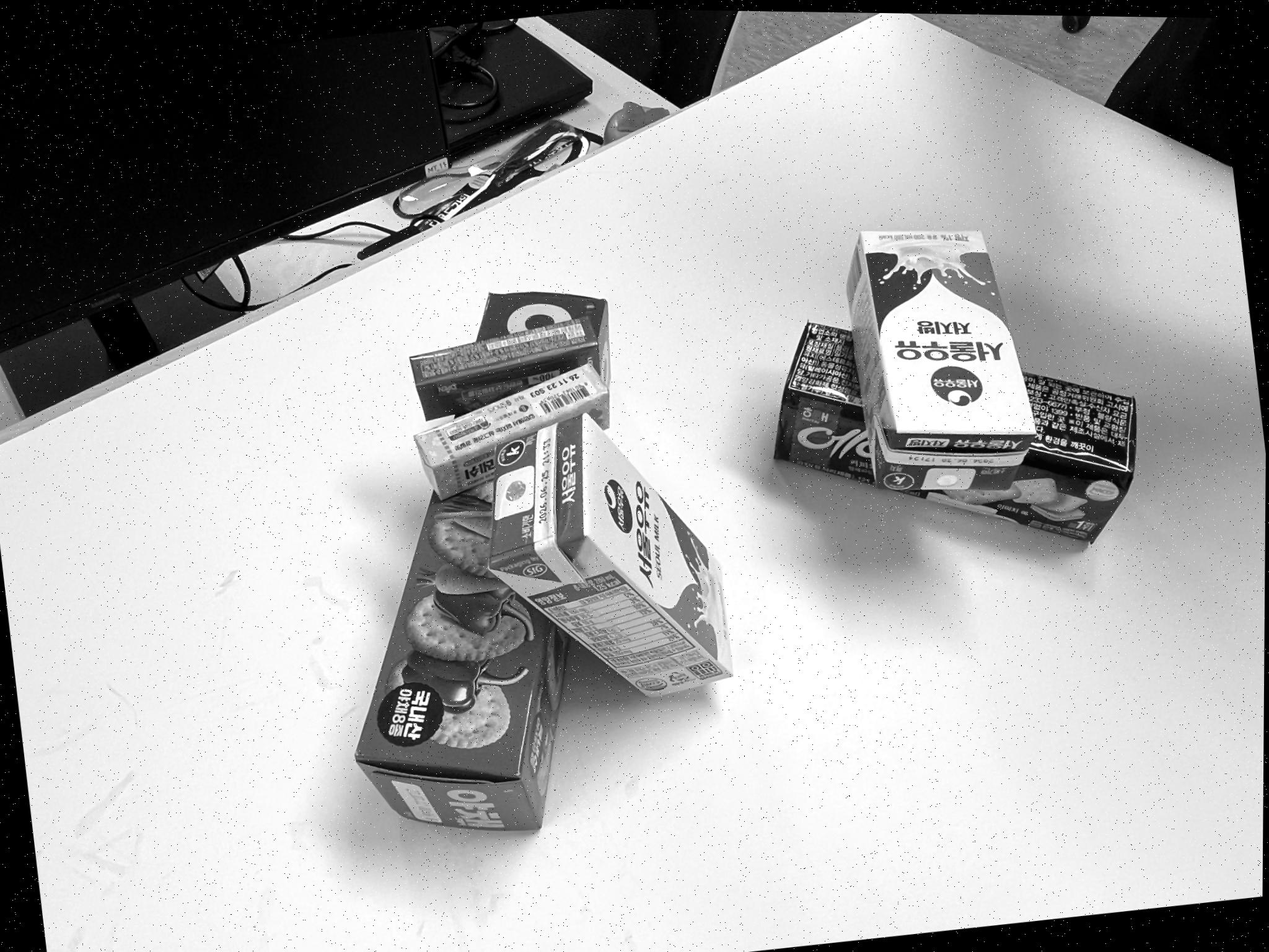cracker_ace: (884, 369, 1136, 545), (772, 321, 881, 488)
cracker_vege: (356, 483, 568, 830), (476, 289, 611, 386)
gum_green: (410, 317, 609, 419)
gum_yellow: (416, 365, 610, 498)
milk_blue: (847, 231, 1035, 493)
milk_green: (489, 415, 731, 696)
